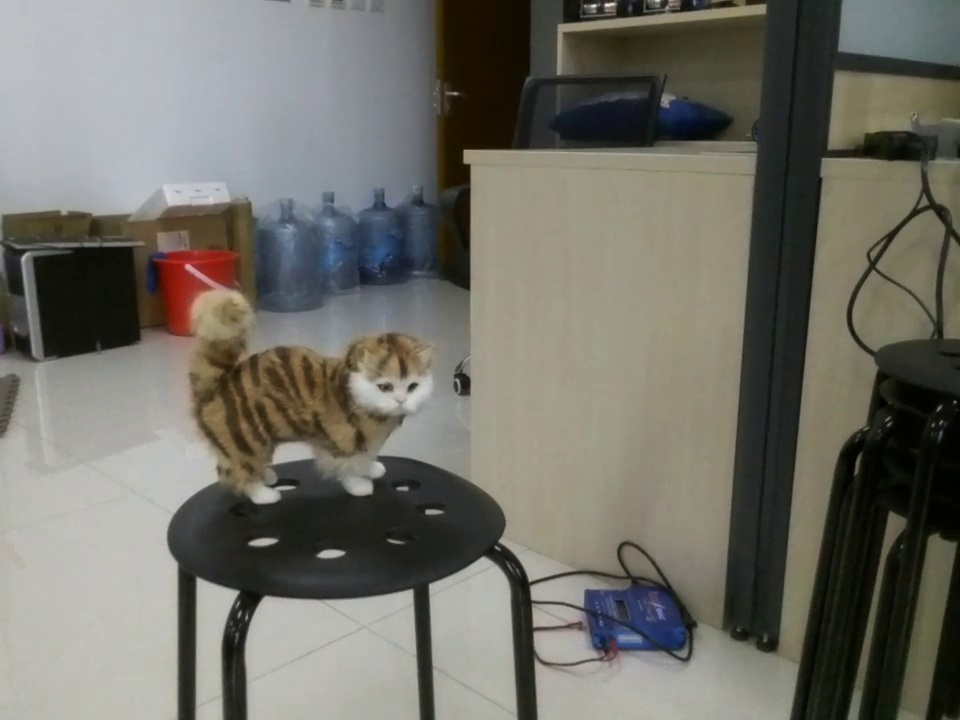cat: (185, 290, 437, 509)
